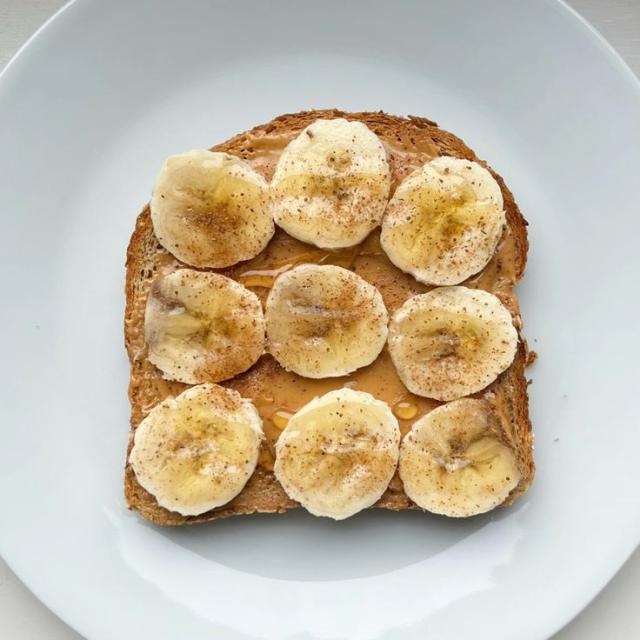banana slice: (130, 384, 262, 515), (274, 389, 399, 519), (381, 157, 505, 285), (272, 119, 390, 248), (389, 287, 518, 400), (151, 150, 274, 267), (400, 399, 520, 516), (145, 269, 265, 383), (266, 265, 387, 378)
sliced bread: (463, 172, 534, 505), (214, 110, 485, 192), (123, 204, 188, 457), (218, 354, 349, 451), (123, 453, 297, 525), (218, 230, 327, 301), (347, 230, 427, 313), (350, 354, 401, 401), (376, 479, 417, 508)
